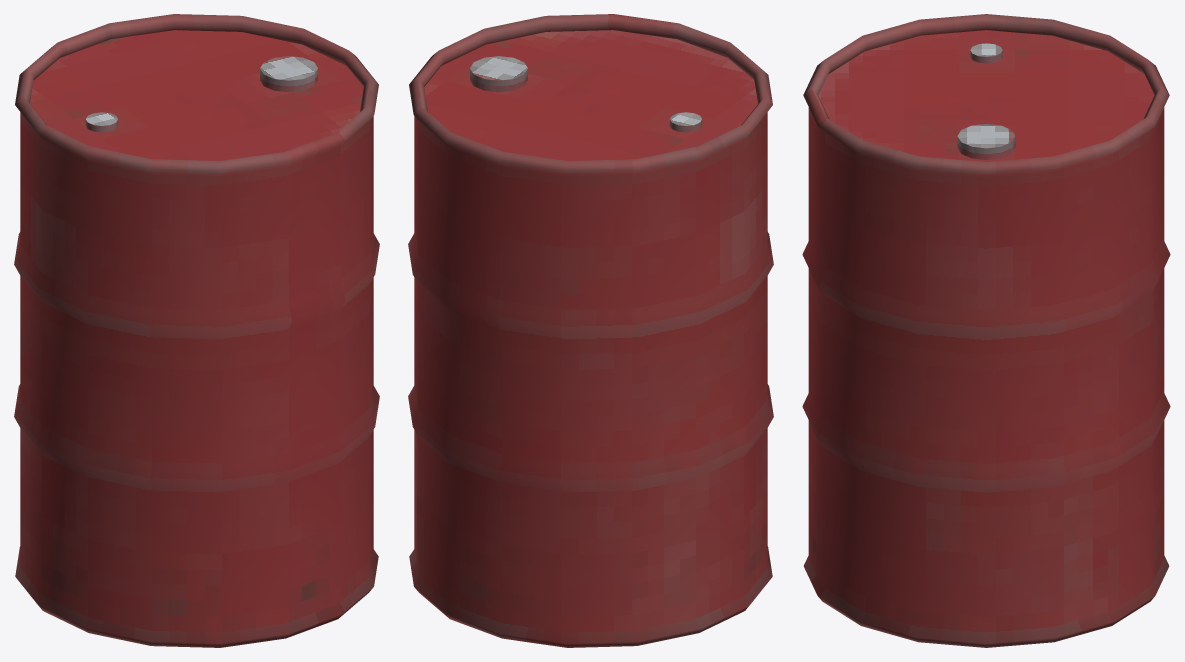
File: objects_un_base_oildrum01.gltf
3 views of the same model, side by side, from view 1: azimuth 30°, elevation 25°; view 2: azimuth 150°, elevation 25°; view 3: azimuth 270°, elevation 25° (orthographic).
Visible parts, largest first — view 1: objects_un_base_oildrum01_body_mesh_shape:objects_un_base_oi; view 2: objects_un_base_oildrum01_body_mesh_shape:objects_un_base_oi; view 3: objects_un_base_oildrum01_body_mesh_shape:objects_un_base_oi.
Boxes of the visible parts, x1=… form: objects_un_base_oildrum01_body_mesh_shape:objects_un_base_oi: x1=14, y1=14, x2=379, y2=647; objects_un_base_oildrum01_body_mesh_shape:objects_un_base_oi: x1=408, y1=14, x2=773, y2=647; objects_un_base_oildrum01_body_mesh_shape:objects_un_base_oi: x1=802, y1=14, x2=1170, y2=647.
Size of the model in its own units: 0.8893 by 1.29 by 0.8893.
Materials: 1 (1 with a texture image).
